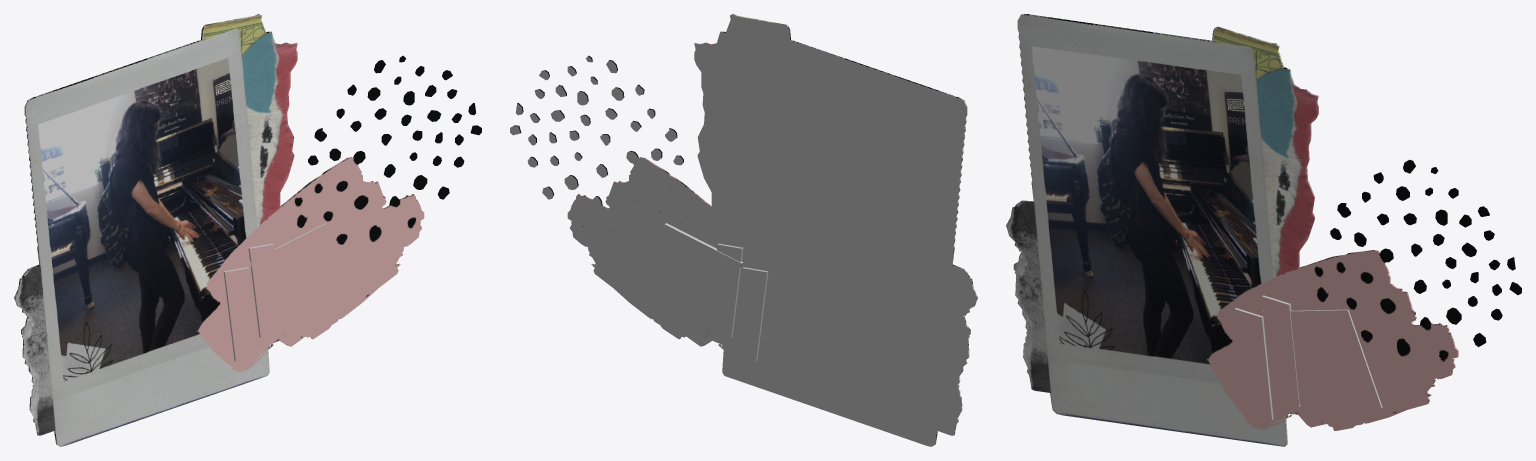
The model's file is defne.glb.
3 renders of one model, left to right at view 1: azimuth 30°, elevation 25°; view 2: azimuth 150°, elevation 25°; view 3: azimuth 330°, elevation 25°, orthographic. The views are drawn at different scales.
Bounding box in the file's own units: 0.1694 × 0.1339 × 0.00249.
Materials: 1 (1 with a texture image).
